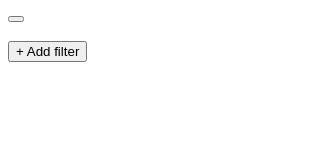
Test: components/viewHeader/filterComponent › clears pending add state when the active view changes
Later steps or results of the test are not shown.
Step 1. Click the button "+ Add filter" → (48, 52), box [8, 41, 87, 62]
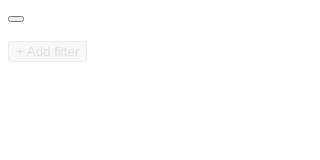
Now the button "+ Add filter" is disabled, box [8, 41, 87, 62]
